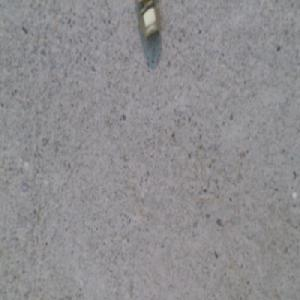BoltNutSet: (139, 2, 159, 39)
